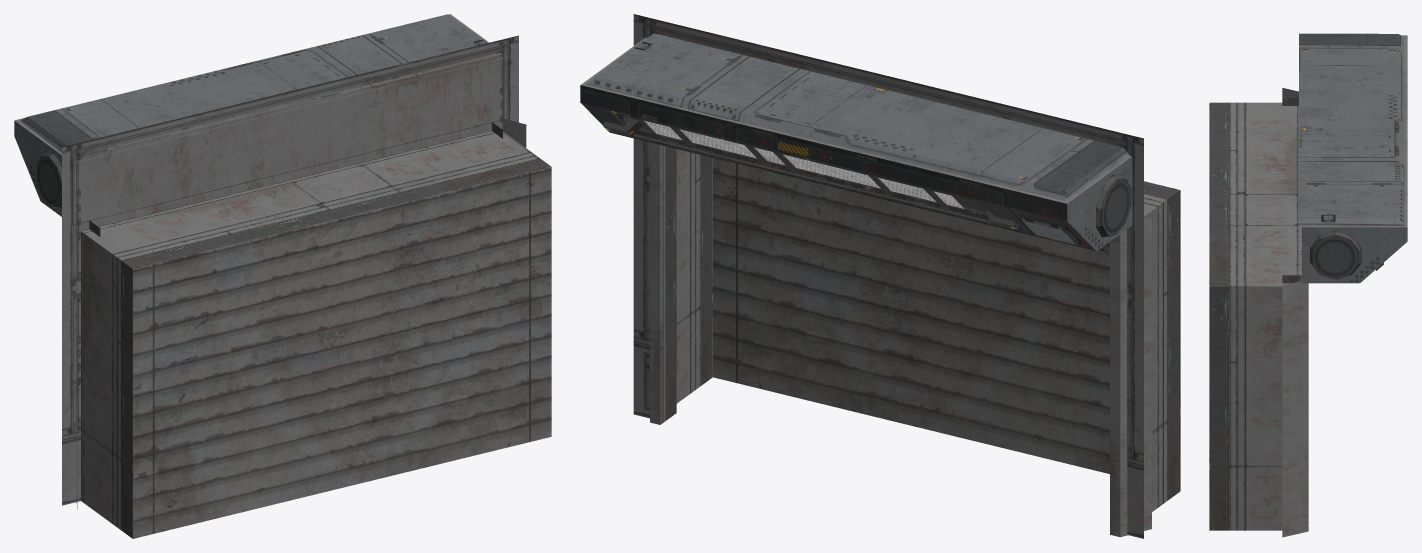
Rendered from ARC0910221.fbx.
The picture shows the model from 3 angles, left to right: view 1: azimuth 30°, elevation 25°; view 2: azimuth 150°, elevation 25°; view 3: azimuth 270°, elevation 25°; orthographic projection. The views are drawn at different scales.
Parts seen in each view (by area): view 1: smARC0910221; view 2: smARC0910221; view 3: smARC0910221.
Part boxes in pixels (<box>): smARC0910221: <box>14,14,551,538</box>; smARC0910221: <box>580,14,1180,538</box>; smARC0910221: <box>1209,33,1407,537</box>.
Size of the model in its own units: 400 by 300 by 167.
Materials: 1 (1 with a texture image).
